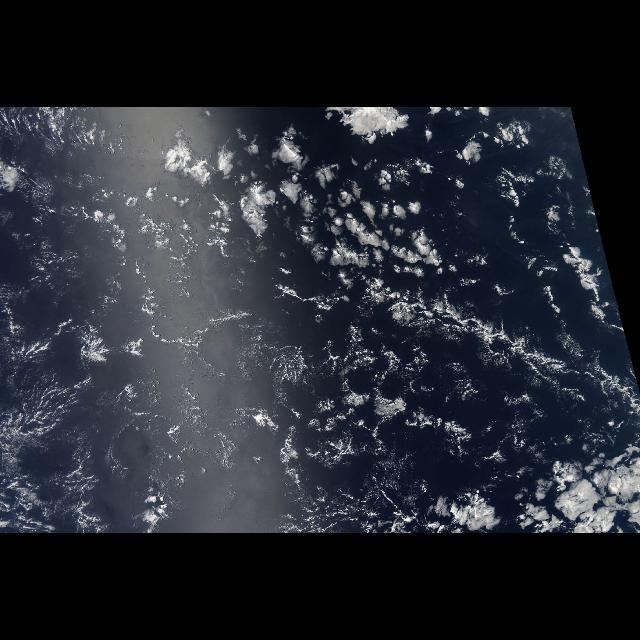Flower: (146, 124, 470, 280), (492, 431, 636, 527)
Sugar: (4, 370, 138, 530)
